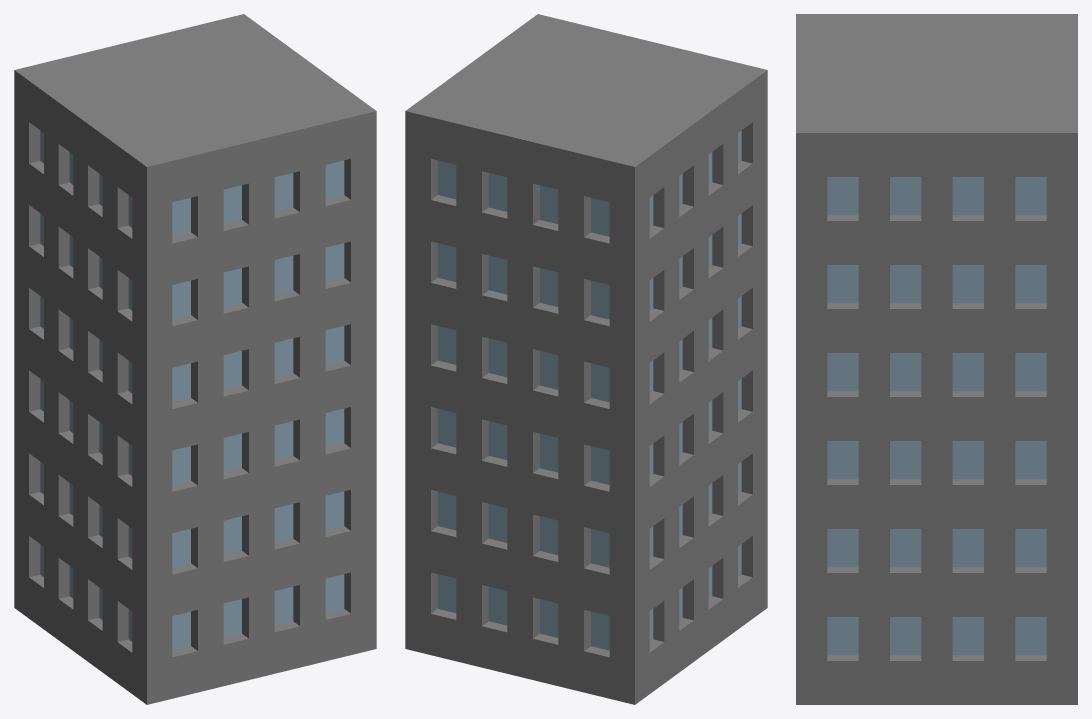
Rendered from SHORT BUILDING final.fbx.
The picture shows the model from 3 angles, left to right: view 1: azimuth 30°, elevation 25°; view 2: azimuth 150°, elevation 25°; view 3: azimuth 270°, elevation 25°; orthographic projection. The views are drawn at different scales.
Parts seen in each view (by area): view 1: pCube1; view 2: pCube1; view 3: pCube1.
Part boxes in pixels (left/top/right/bottom): pCube1: left=14, top=14, right=376, bottom=704; pCube1: left=405, top=14, right=767, bottom=704; pCube1: left=796, top=14, right=1077, bottom=704.
Bounding box in the file's own units: 10.09 × 22.58 × 10.09.
